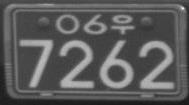0: (55, 13, 79, 35)
2: (139, 39, 175, 89), (59, 38, 94, 89)
6: (98, 40, 134, 89), (83, 13, 107, 35)
7: (19, 38, 53, 87)
우: (110, 13, 135, 34)
